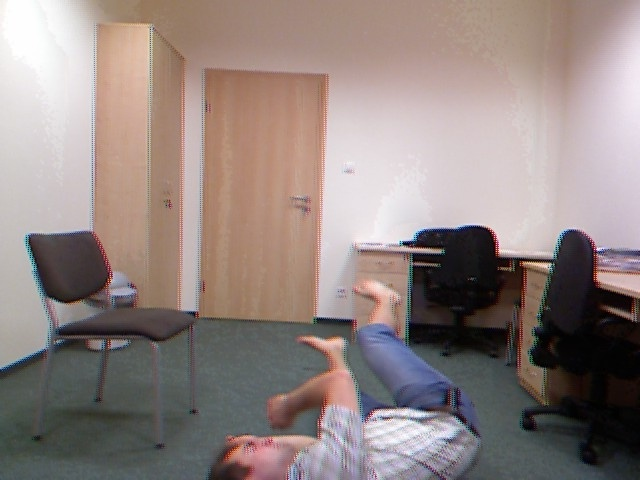fall: (203, 275, 490, 480)
